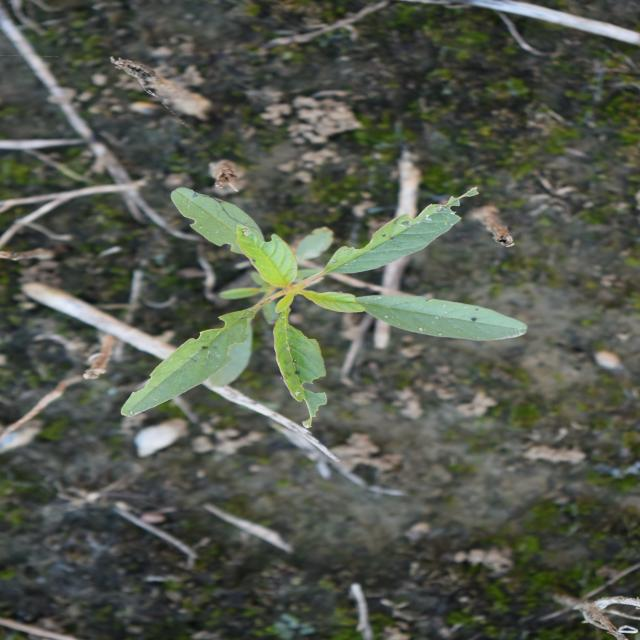Waterhemp: (118, 185, 532, 430)
